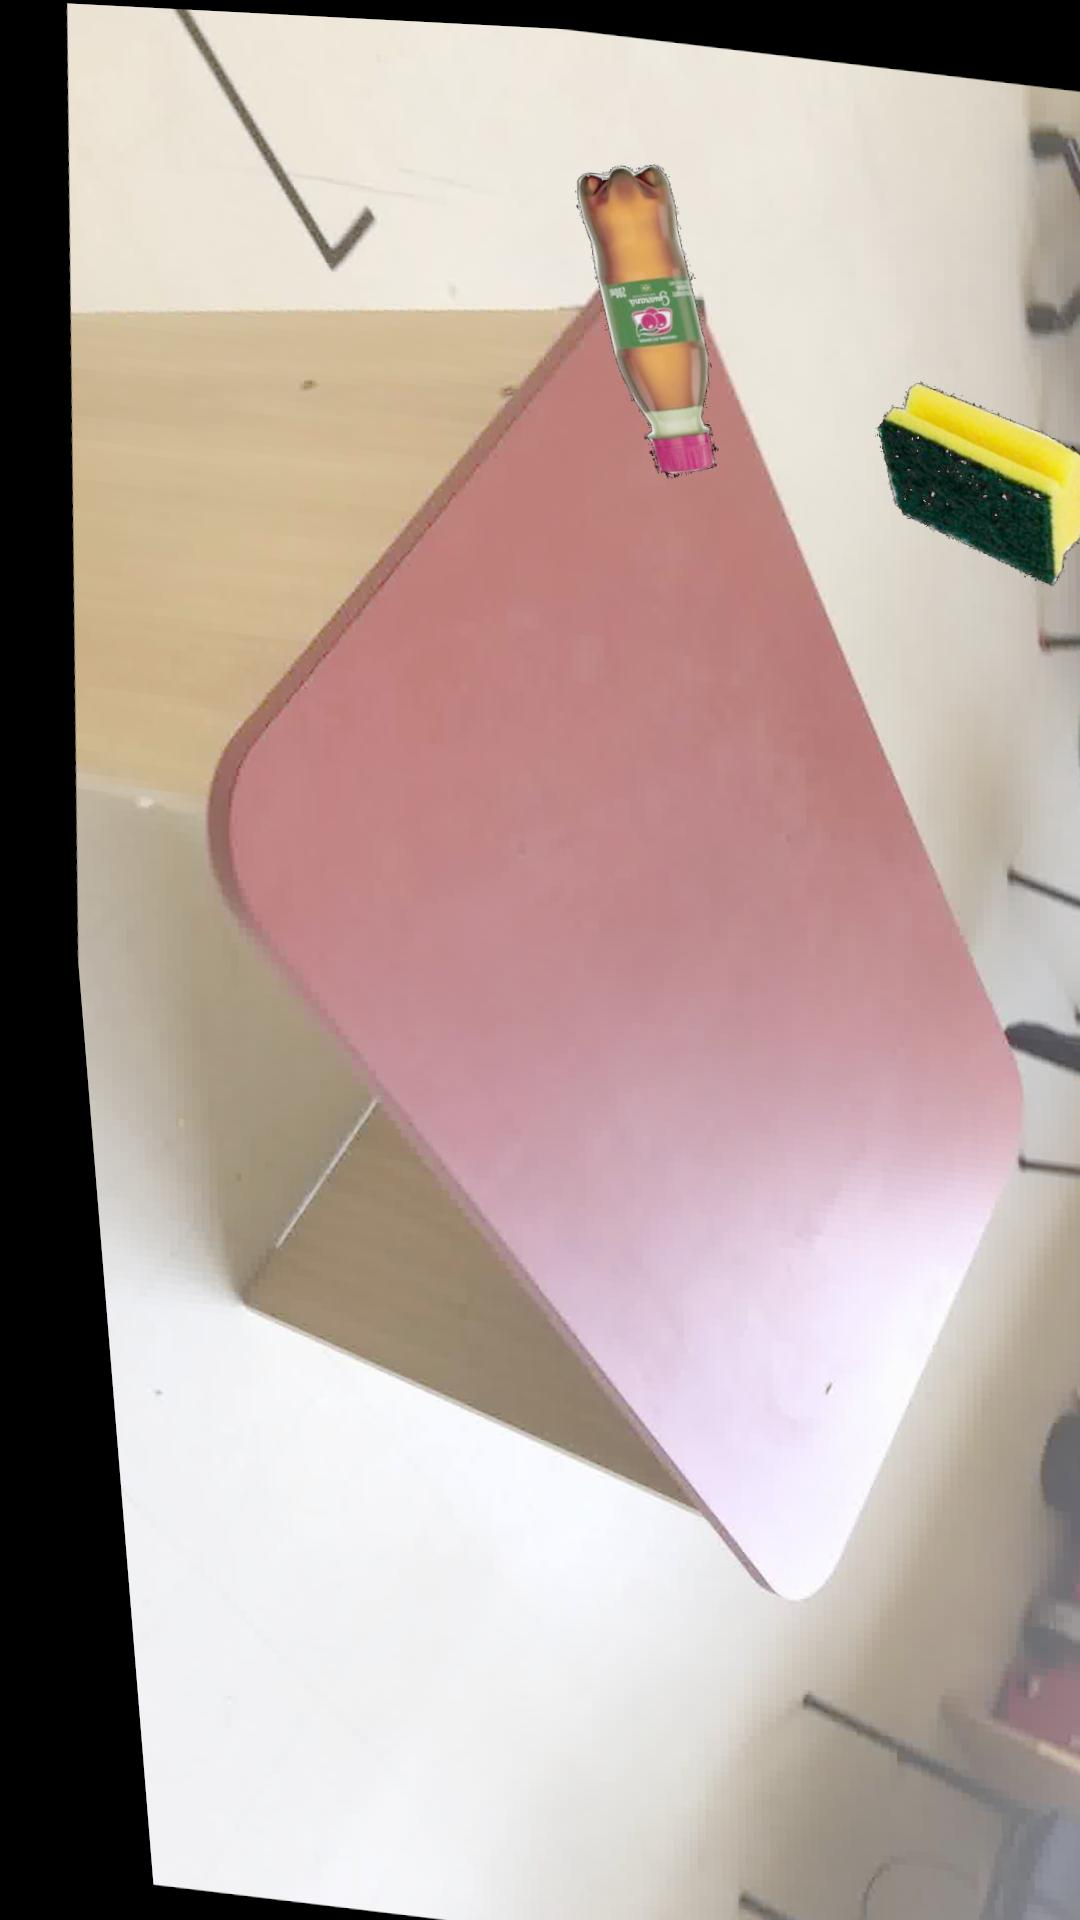guarana: (571, 154, 708, 468)
sponge: (868, 371, 1075, 572)
